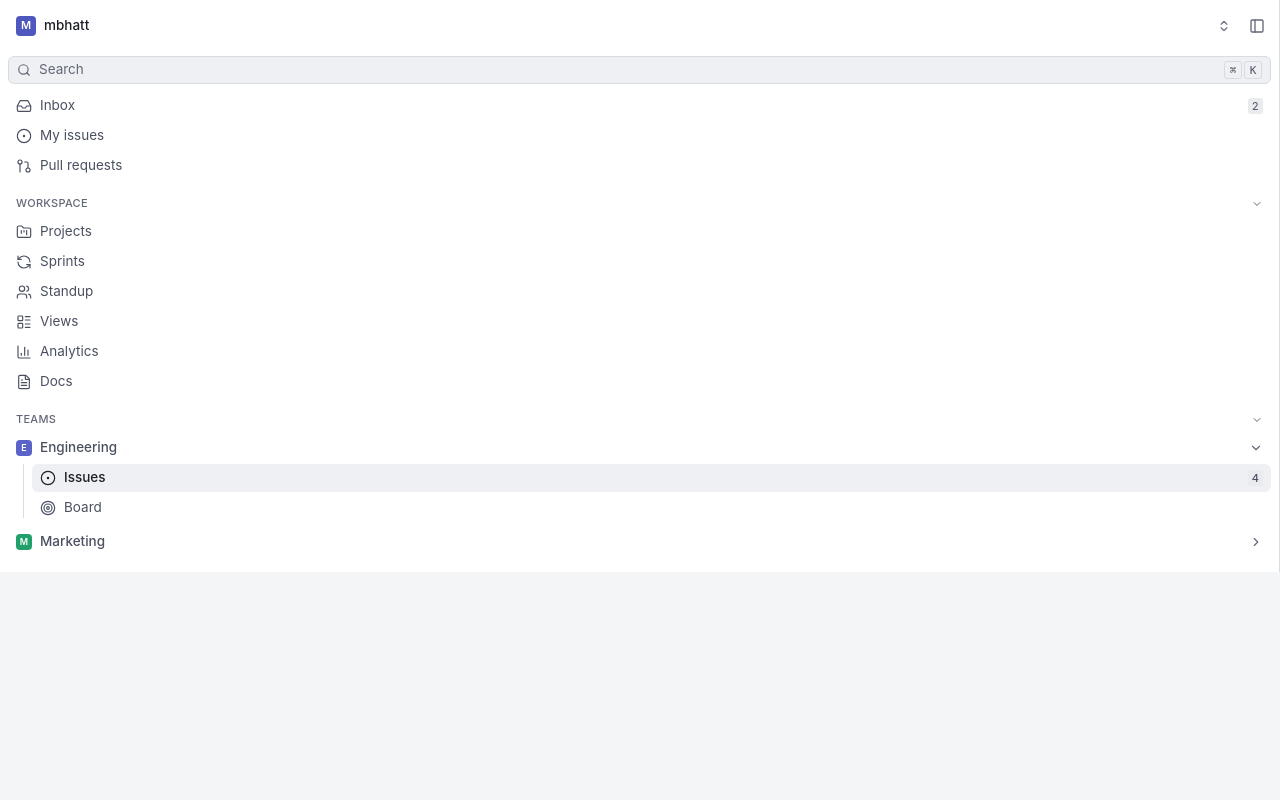
Test: Sidebar › reveals a team subtree when its row is clicked
Expected: the number of links "Board" is 1, [40, 499, 102, 516]
Click the button with test id "team-toggle-MKT". click: (73, 541)
box: [8, 528, 1271, 556]
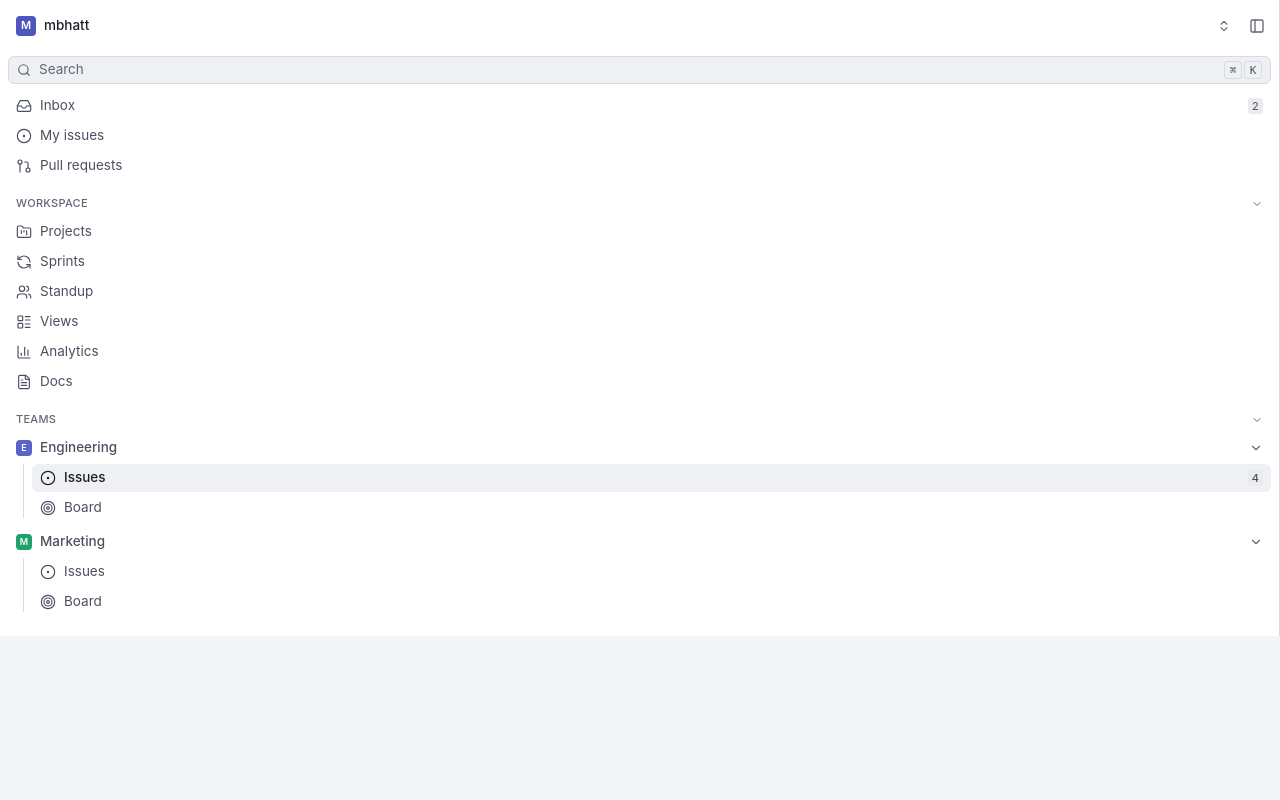
Expected: the button with test id "team-toggle-MKT" is expanded, [8, 528, 1271, 556]
Expected: the number of links "Board" is 2, [40, 499, 102, 516]; [40, 593, 102, 610]
